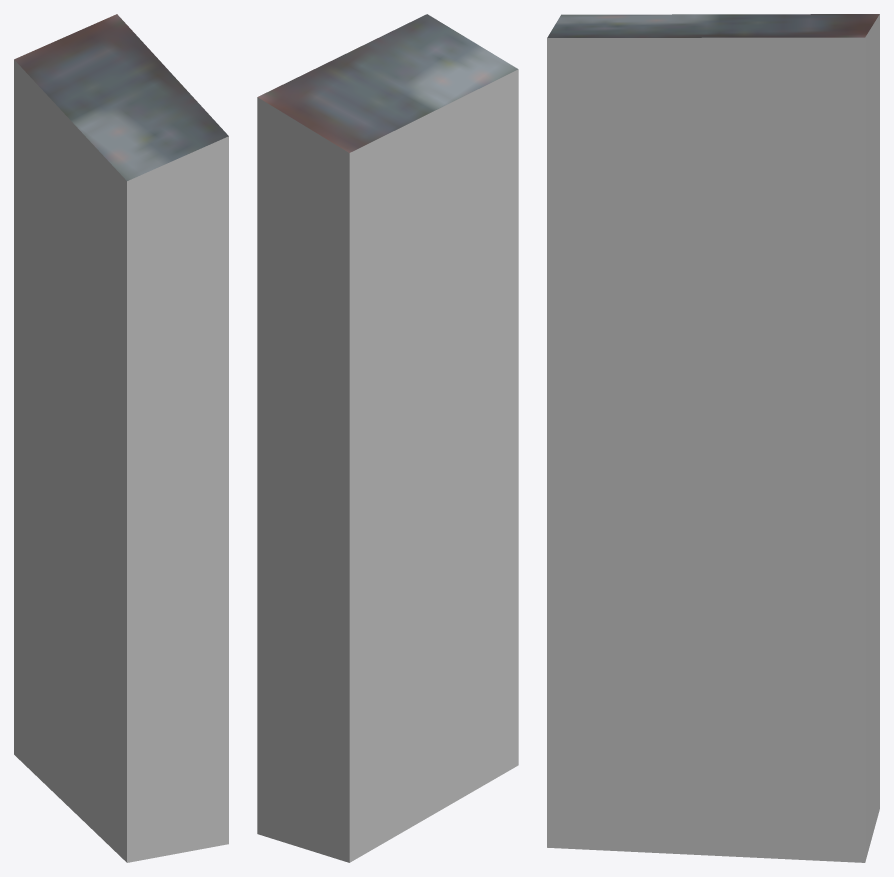
File: DEBW_0010007THZn.gltf
3 renders of one model, left to right at view 1: azimuth 30°, elevation 25°; view 2: azimuth 150°, elevation 25°; view 3: azimuth 270°, elevation 25°, orthographic. The views are drawn at different scales.
Visible parts, largest first — view 1: Z_UP; view 2: Z_UP; view 3: Z_UP.
Part boxes in pixels (<box>): Z_UP: <box>14,14,228,862</box>; Z_UP: <box>257,14,518,862</box>; Z_UP: <box>547,14,879,862</box>.
Size of the model in its own units: 2.53 by 14.2 by 5.19.
2 materials, 1 textured.
